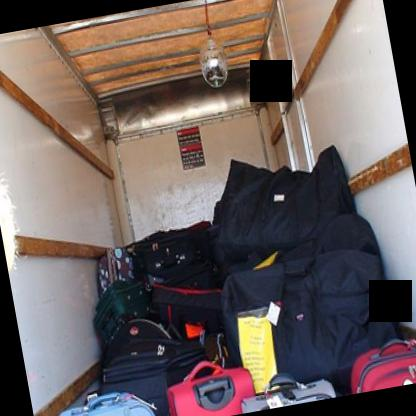suitcase: (98, 337, 208, 416), (166, 361, 259, 416), (129, 232, 203, 290), (240, 371, 337, 413), (93, 276, 150, 343), (352, 338, 416, 394), (57, 390, 155, 416), (97, 248, 138, 297)
